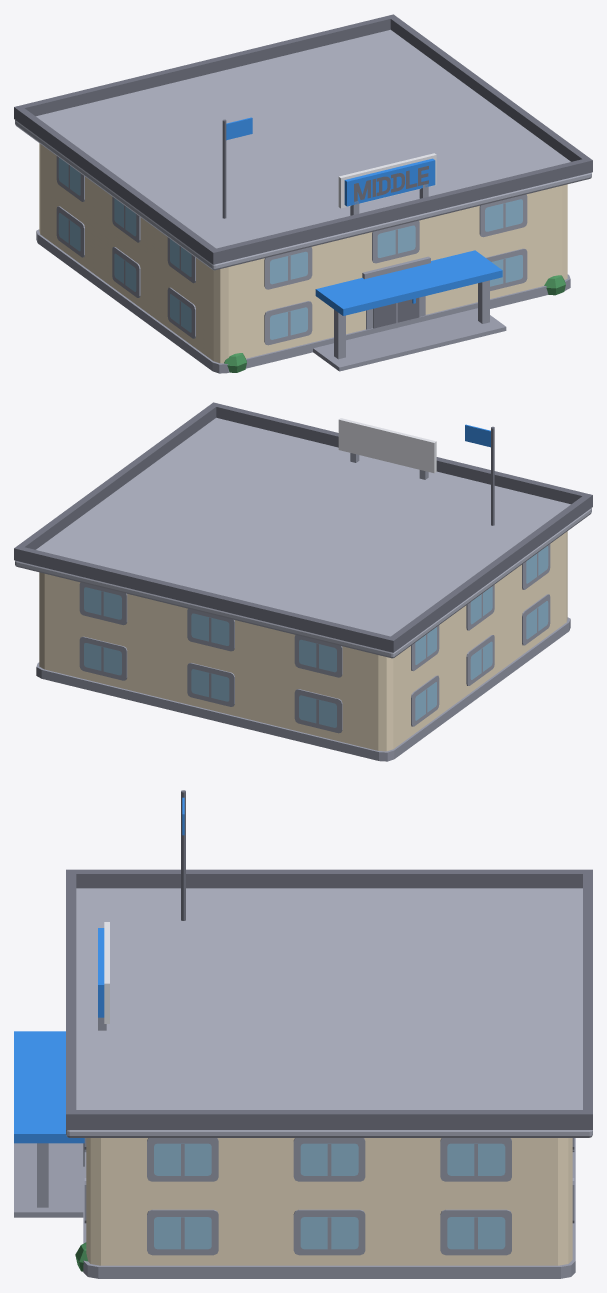
The model's file is middle-school-2x2.glb.
3 renders of one model, top to bottom at view 1: azimuth 30°, elevation 25°; view 2: azimuth 150°, elevation 25°; view 3: azimuth 270°, elevation 25°, orthographic. The views are drawn at different scales.
Visible parts, largest first — view 1: middle-school-2x2; view 2: middle-school-2x2; view 3: middle-school-2x2.
Part boxes in pixels (x1,y1,x2,y2): middle-school-2x2: [14, 14, 592, 373]; middle-school-2x2: [14, 402, 592, 761]; middle-school-2x2: [14, 790, 592, 1278].
Bounding box in the file's own units: 2 × 1.09 × 2.
1 material, 1 textured.
